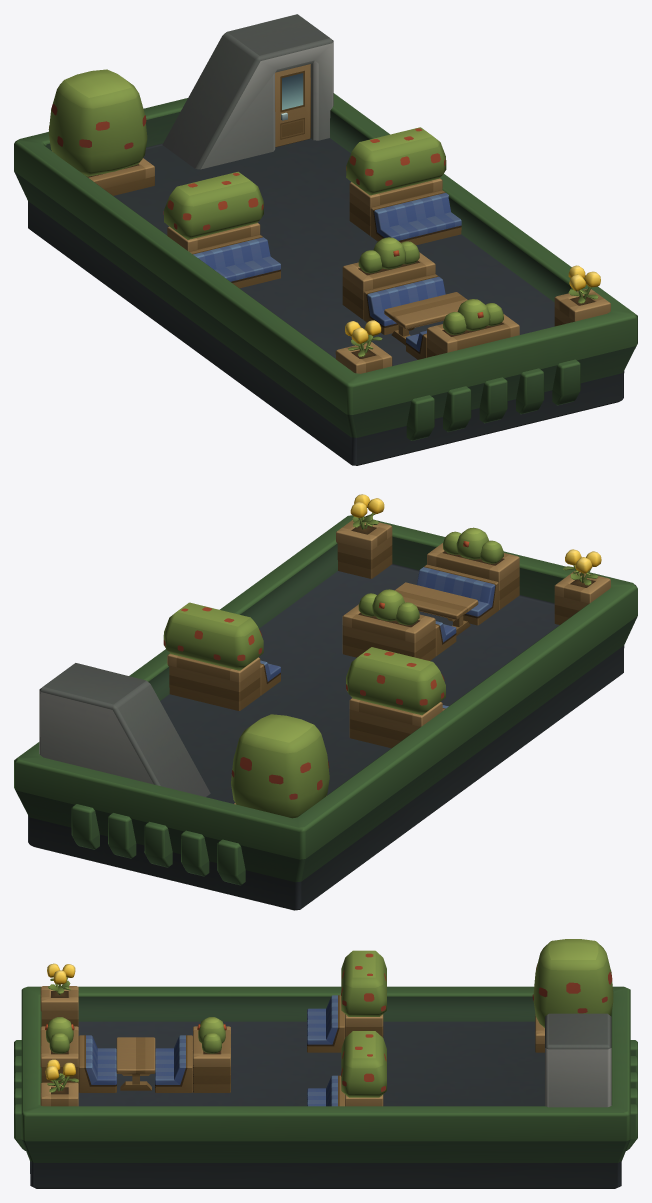
File: office_building_type2_roof_brown_deco.fbx
3 views of the same model, one above another, from view 1: azimuth 30°, elevation 25°; view 2: azimuth 150°, elevation 25°; view 3: azimuth 270°, elevation 25° (orthographic). The views are drawn at different scales.
Visible parts, largest first — view 1: office_building_type2_roof_brown_deco, door_office_building_type2_roof_brown_deco; view 2: office_building_type2_roof_brown_deco; view 3: office_building_type2_roof_brown_deco.
Boxes of the visible parts, <box> form: office_building_type2_roof_brown_deco: <box>14,14,637,465</box>; door_office_building_type2_roof_brown_deco: <box>275,64,310,147</box>; office_building_type2_roof_brown_deco: <box>14,494,637,910</box>; office_building_type2_roof_brown_deco: <box>14,939,637,1188</box>.
Bounding box in the file's own units: 800 × 413 × 1640.
